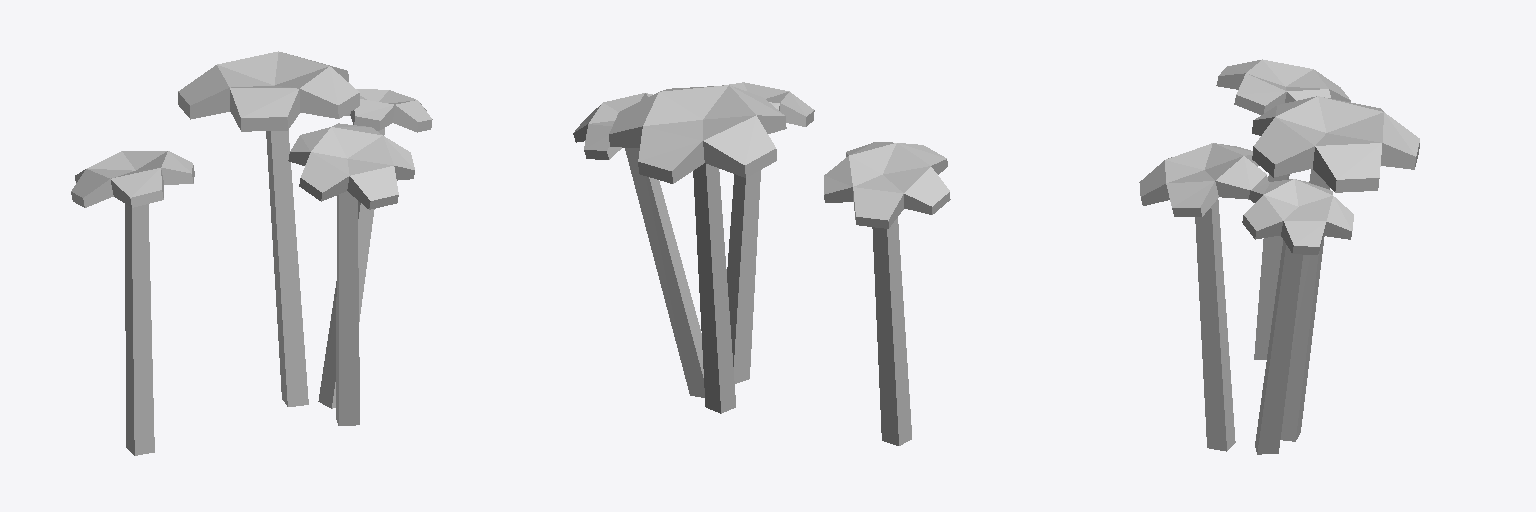
The model's file is SM_Env_Flowers_03.obj.
The picture shows the model from 3 angles: view 1: azimuth 30°, elevation 25°; view 2: azimuth 150°, elevation 25°; view 3: azimuth 270°, elevation 25°; orthographic projection.
Bounding box in the file's own units: 59.87 × 51.27 × 41.03.